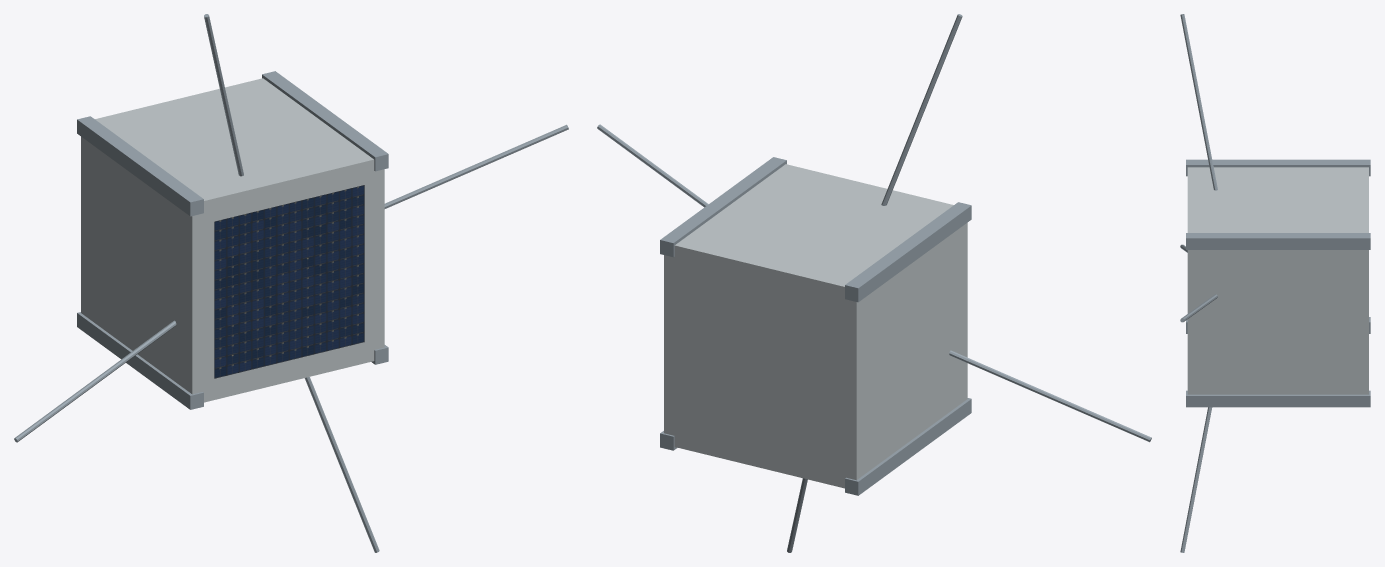
Rendered from ref-cubesat-1u-38084.glb.
3 views of the same model, side by side, from view 1: azimuth 30°, elevation 25°; view 2: azimuth 150°, elevation 25°; view 3: azimuth 270°, elevation 25° (orthographic). The views are drawn at different scales.
Parts seen in each view (by area): view 1: Spacecraft body, Body-mounted cells, Dispenser rail (×3), Antenna boom (×4); view 2: Spacecraft body, Dispenser rail (×3), Antenna boom (×3); view 3: Spacecraft body, Dispenser rail (×3), Antenna boom (×2).
Part boxes in pixels (x1,y1,x2,y2): Spacecraft body: (81, 78, 384, 402); Body-mounted cells: (214, 185, 364, 378); Dispenser rail (×3): (77, 71, 388, 409); Antenna boom (×4): (14, 14, 568, 552); Spacecraft body: (664, 164, 967, 488); Dispenser rail (×3): (660, 157, 971, 495); Antenna boom (×3): (597, 14, 1151, 442); Spacecraft body: (1187, 167, 1368, 394); Dispenser rail (×3): (1186, 159, 1370, 407); Antenna boom (×2): (1180, 14, 1217, 552).
Size of the model in its own units: 0.2874 by 0.2874 by 0.1051.
3 materials, 1 textured.
